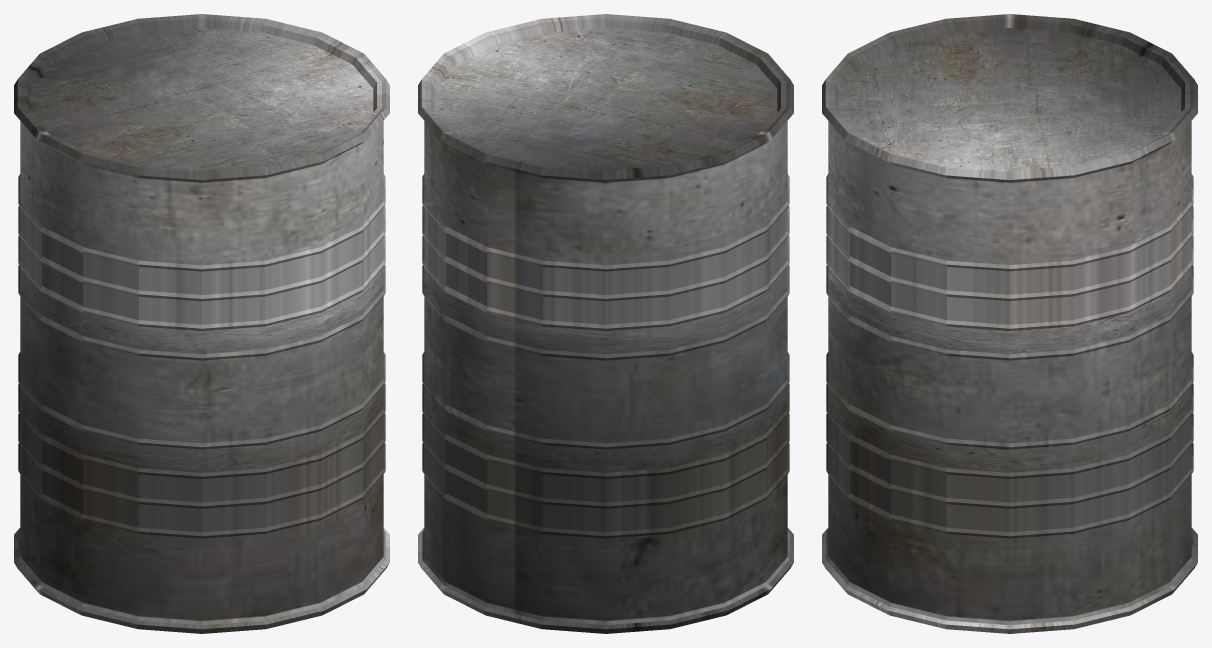
The model's file is can-8.FBX.
3 renders of one model, left to right at view 1: azimuth 30°, elevation 25°; view 2: azimuth 150°, elevation 25°; view 3: azimuth 270°, elevation 25°, orthographic.
Visible parts, largest first — view 1: Cylinder001; view 2: Cylinder001; view 3: Cylinder001.
Boxes of the visible parts, box(x1,y1,x2,y2) form: Cylinder001: box(14, 14, 389, 633); Cylinder001: box(418, 14, 793, 633); Cylinder001: box(822, 14, 1197, 633).
Size of the model in its own units: 31.29 by 41.76 by 30.81.
1 material, 1 textured.
